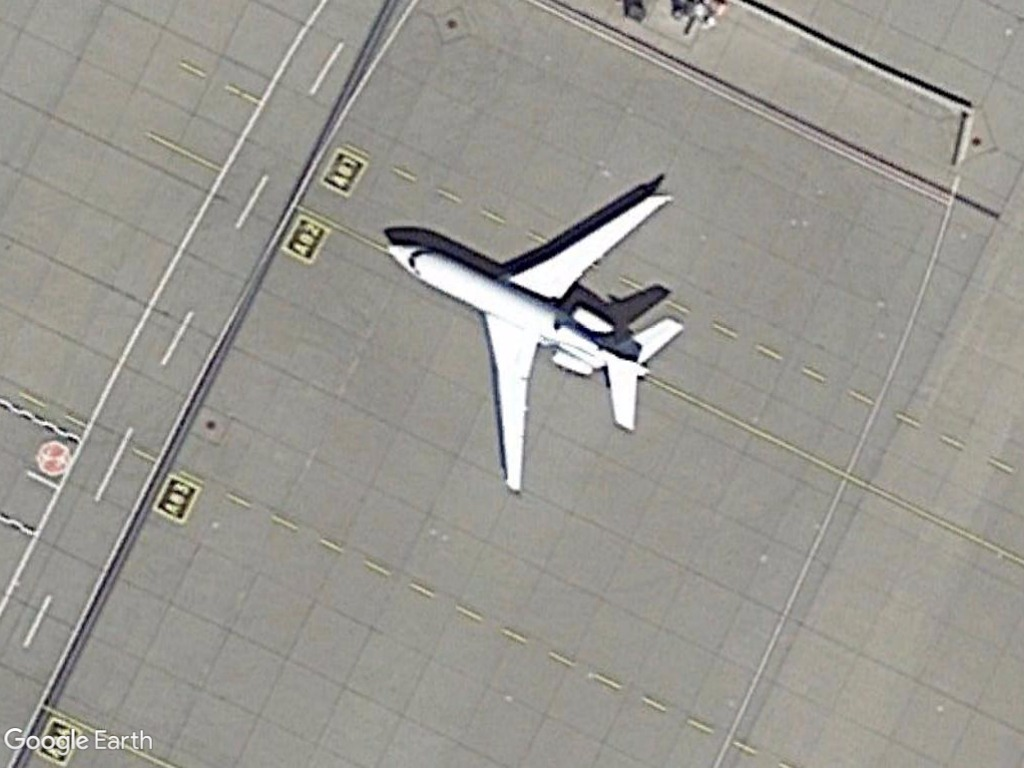chartered: (382, 182, 691, 501)
